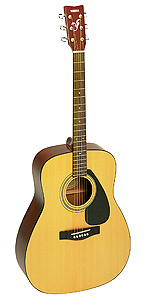guitar: (13, 4, 133, 294)
